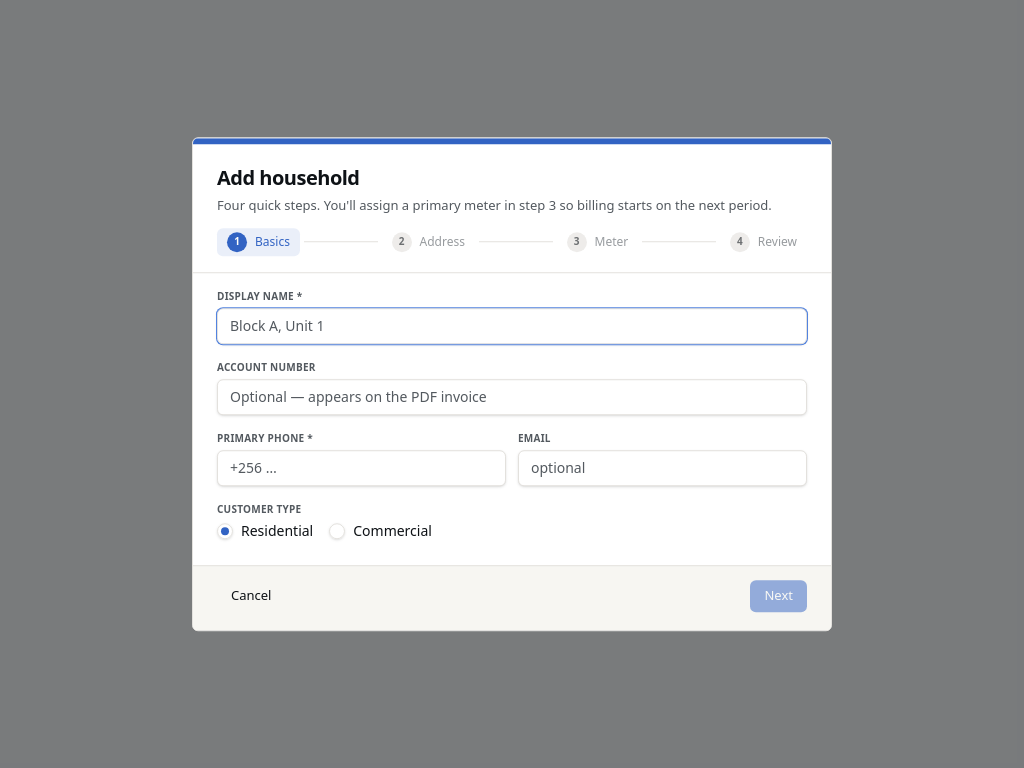
Test case: HouseholdWizard › (c) step 3 rendering › renders one radio per available meter
Type "Household X" into the field labelled "Display name *" at (512, 326), box [217,308,807,344]
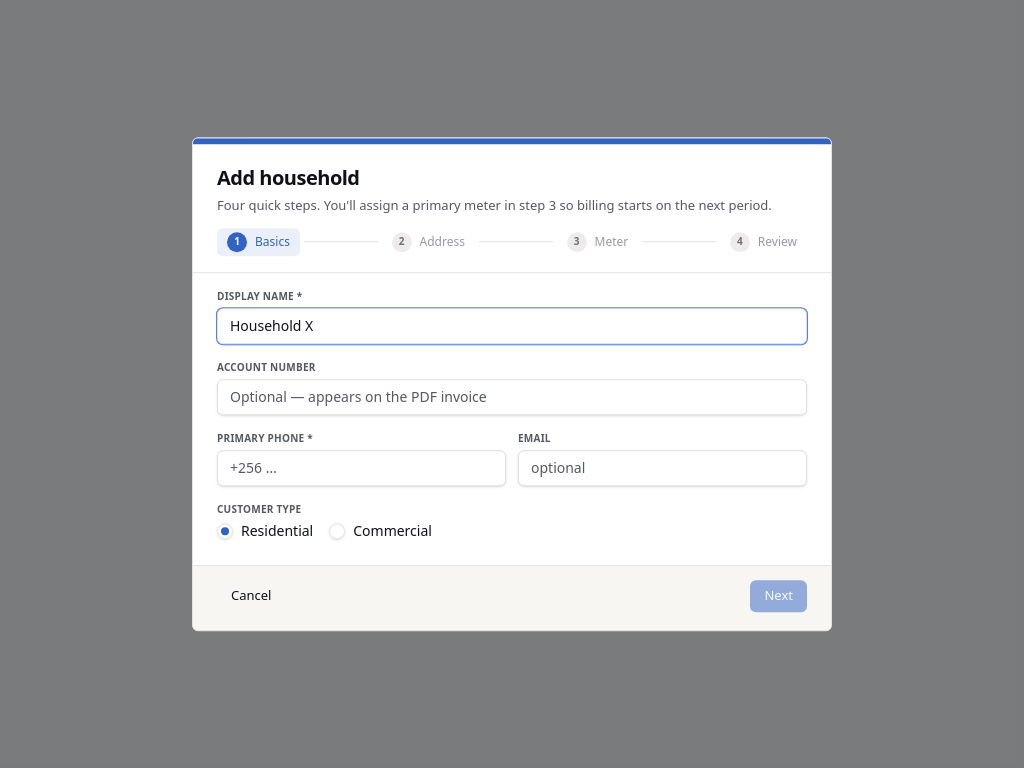
Type "+256 700 000 000" into the field labelled "Primary phone *" at (362, 468), box [217,450,506,486]
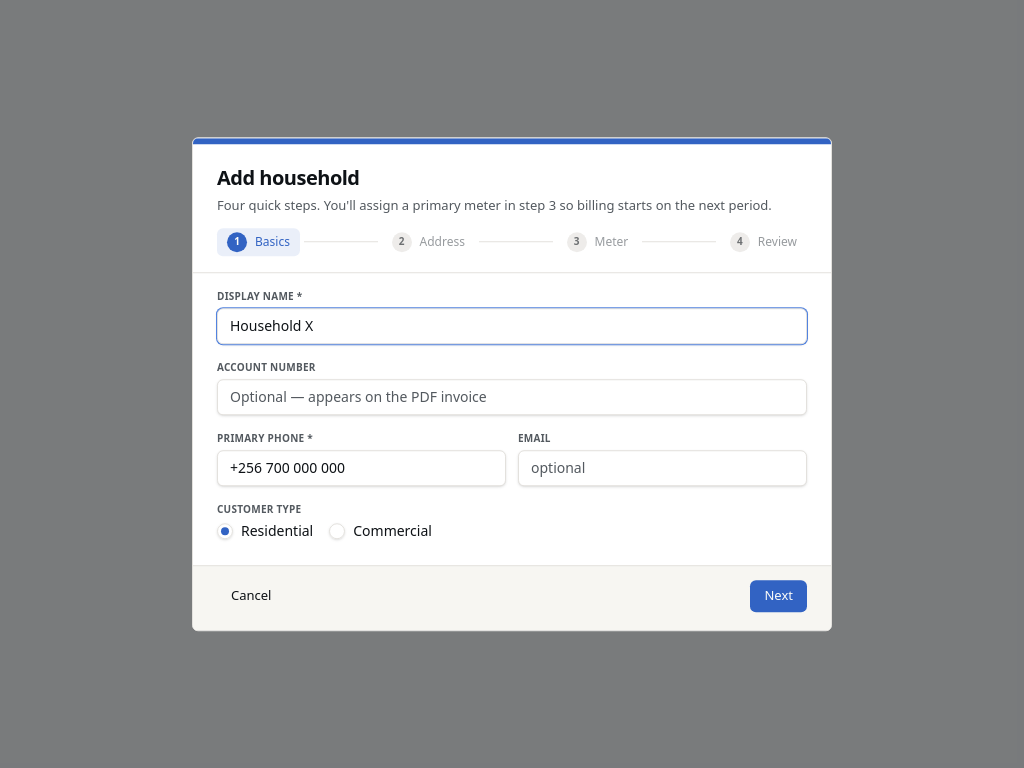
Click the button "Next" at (779, 596), box [750,580,807,612]
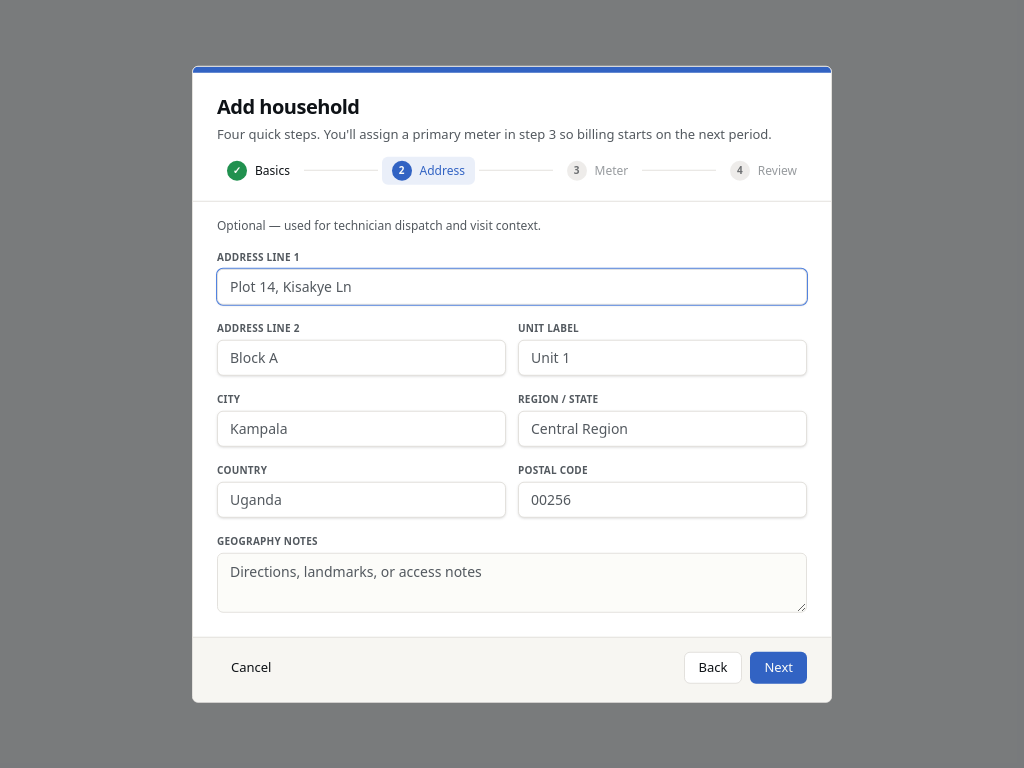
Check: the field labelled "Address line 1" is shown, box [217,268,807,304]
Click the button "Next" at (779, 667), box [750,651,807,683]
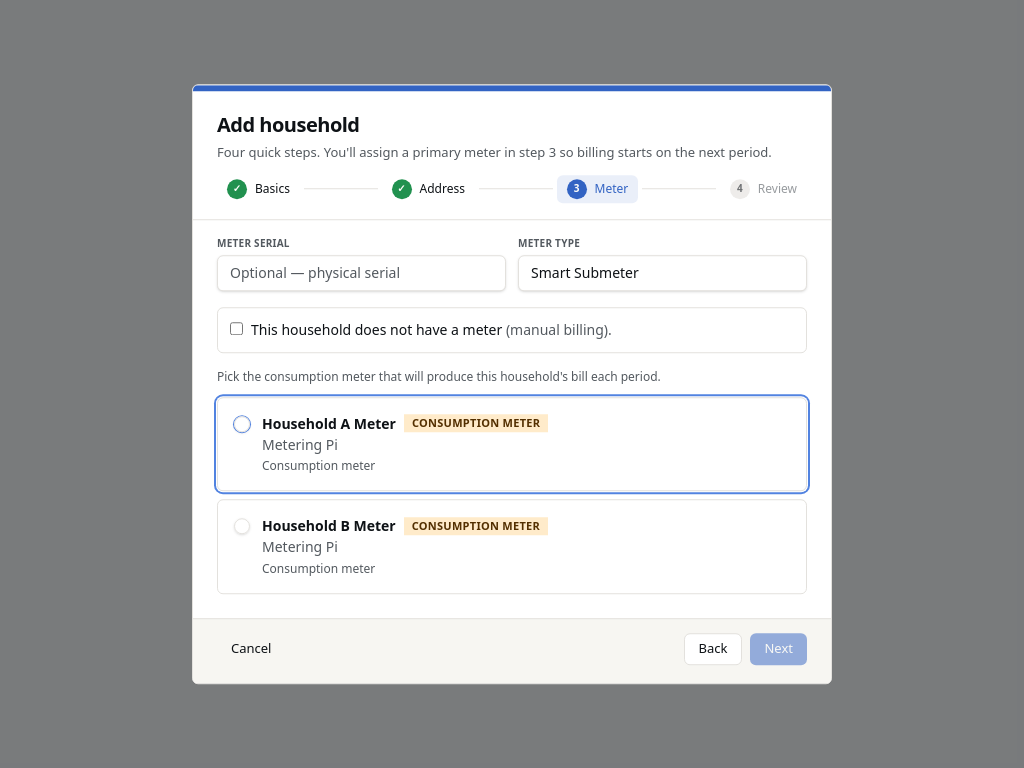
Check: the number of radio buttons is 2, box [234,416,250,432]; [234,518,250,534]
Check: the text "Household A Meter" is shown, box [262,414,396,433]
Check: the text "Household B Meter" is shown, box [262,516,396,536]
